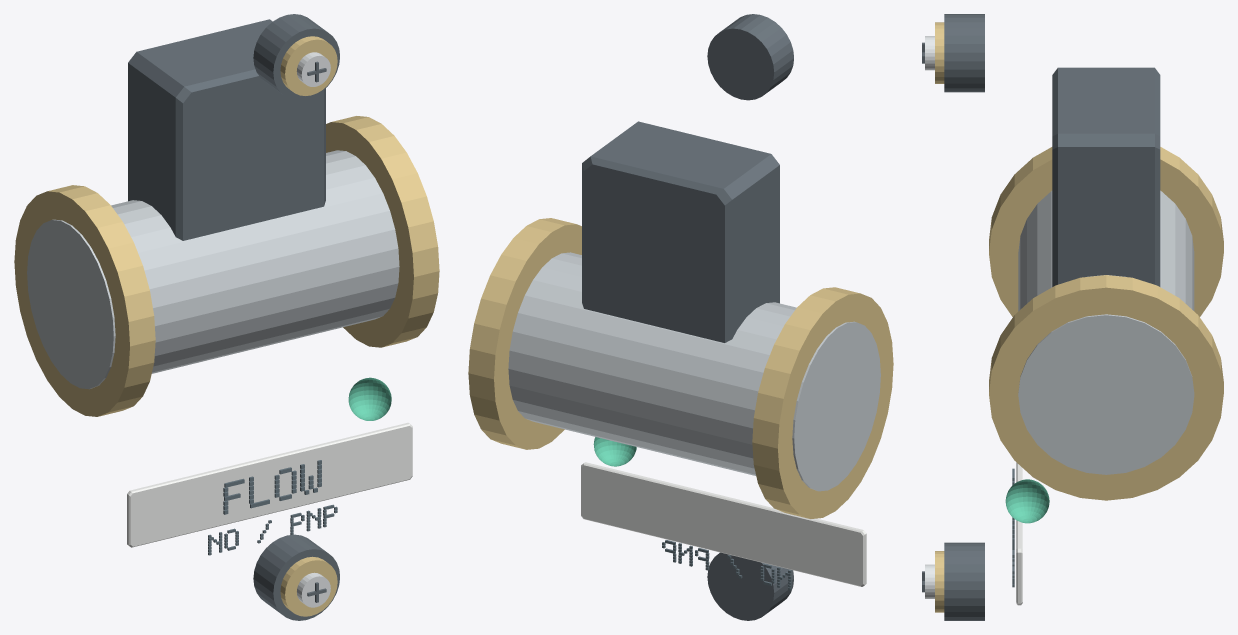
The model's file is flowSwitch.glb.
3 renders of one model, left to right at view 1: azimuth 30°, elevation 25°; view 2: azimuth 150°, elevation 25°; view 3: azimuth 270°, elevation 25°, orthographic.
Parts seen in each view (by area): view 1: flowSwitch-detailed; view 2: flowSwitch-detailed; view 3: flowSwitch-detailed.
Boxes of the visible parts, x1,y1,x2,y2 form: flowSwitch-detailed: (14,14,439,620); flowSwitch-detailed: (468,14,893,620); flowSwitch-detailed: (922,14,1223,620).
Size of the model in its own units: 1.47 by 2.65 by 1.21.
